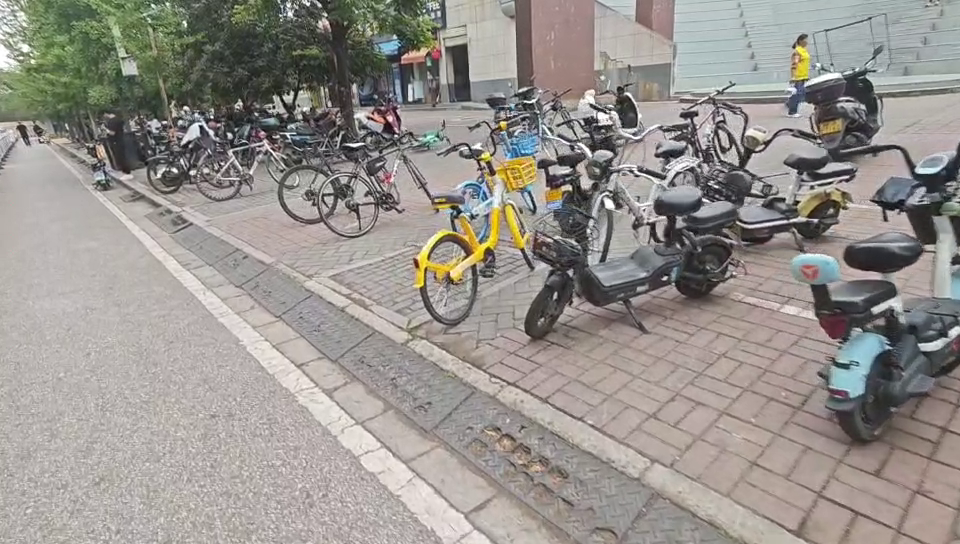others: (792, 128, 960, 446), (524, 134, 740, 349), (699, 85, 853, 256), (321, 121, 438, 241), (813, 19, 899, 156), (280, 117, 380, 224), (201, 128, 302, 192), (140, 126, 220, 185)
shared_bike_haluo: (451, 97, 546, 235)
shared_bike_meituan: (414, 134, 537, 321)
